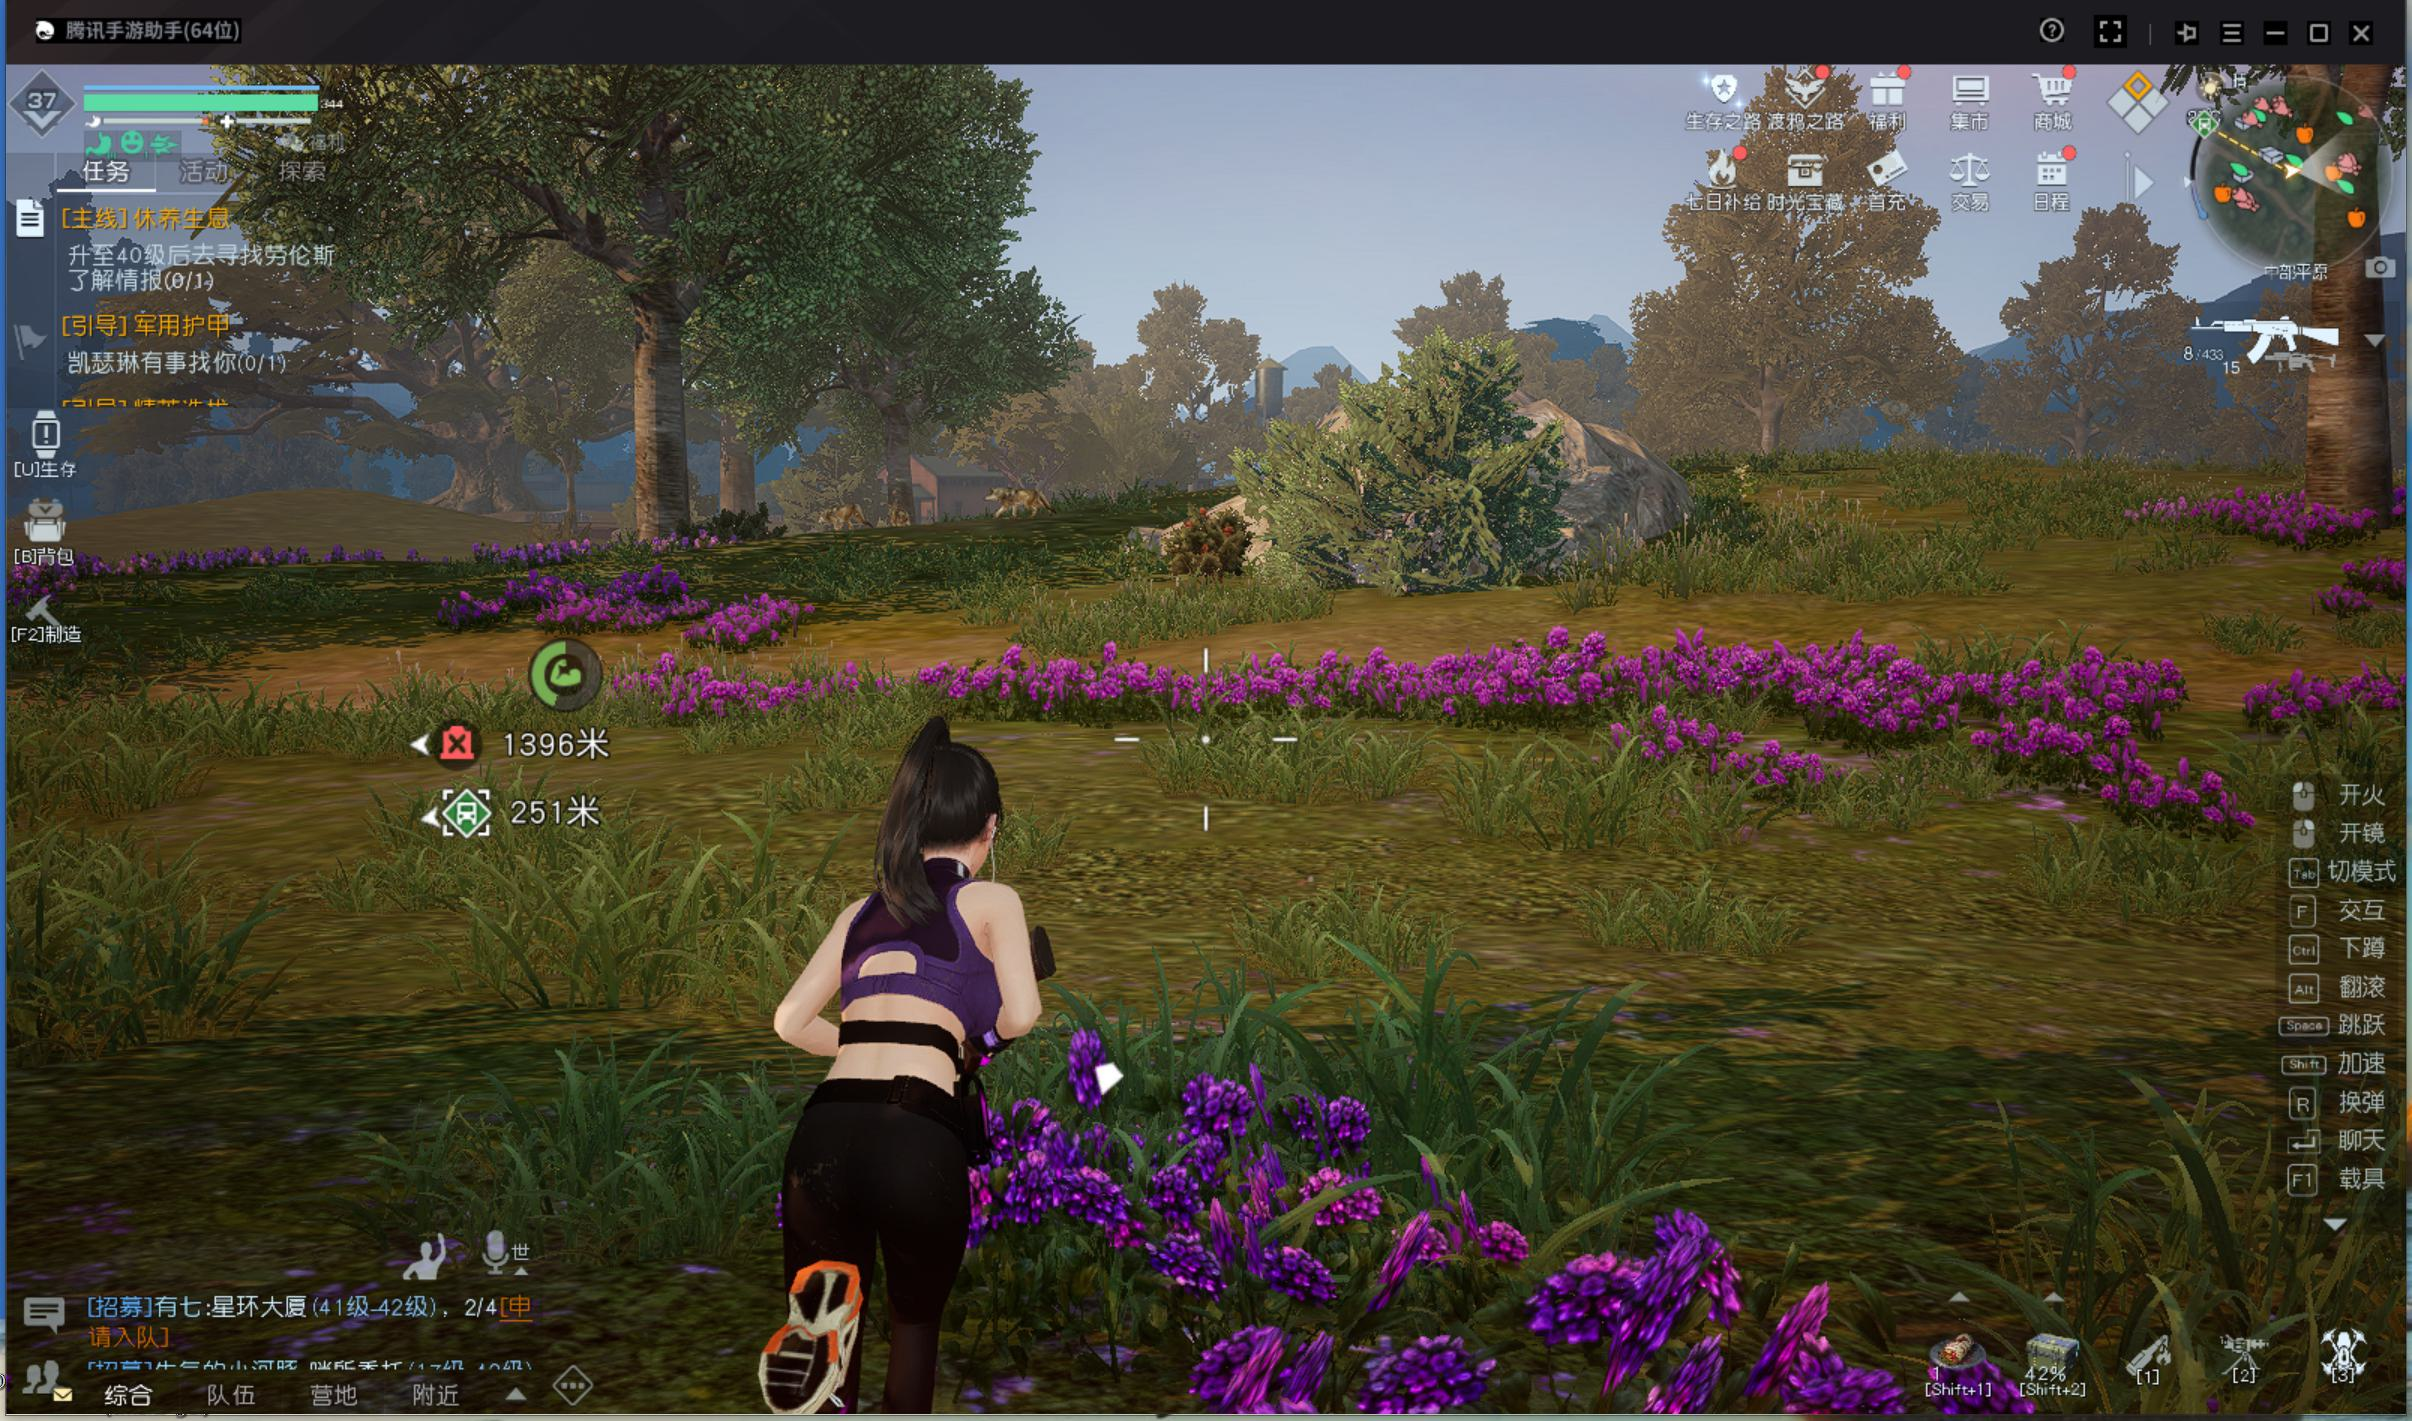tree: (2290, 120, 2400, 548), (616, 332, 705, 572), (714, 428, 785, 550), (874, 436, 934, 540), (710, 442, 765, 541), (1752, 374, 1791, 458)
